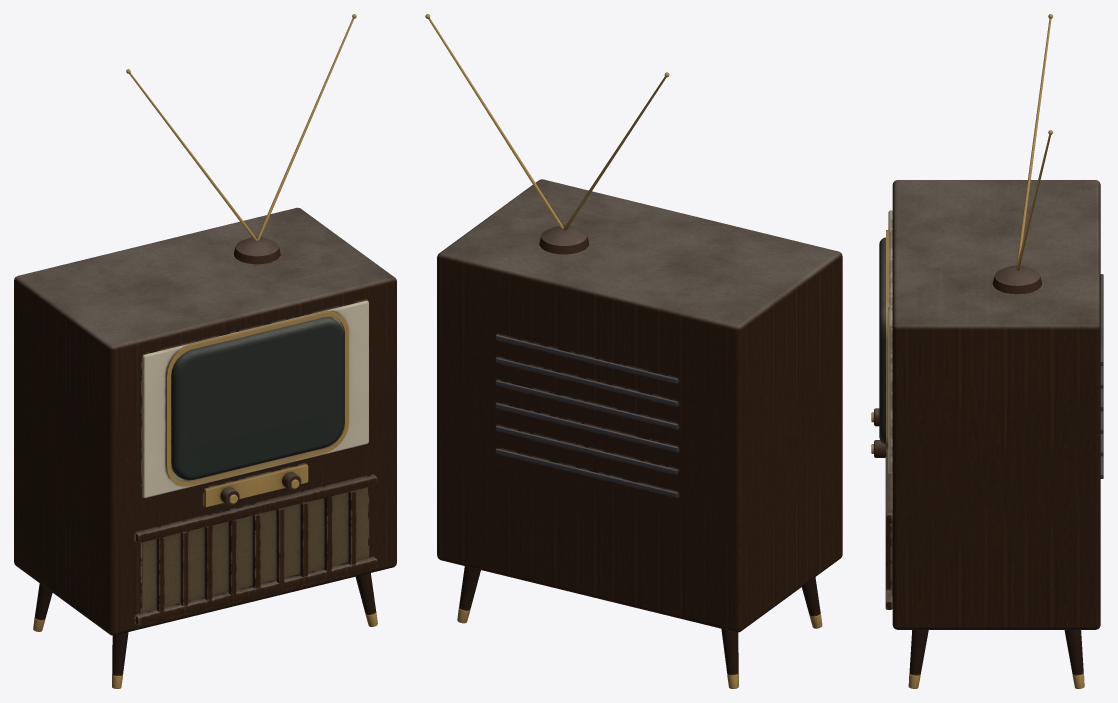
The model's file is tv_console.glb.
The picture shows the model from 3 angles, left to right: view 1: azimuth 30°, elevation 25°; view 2: azimuth 150°, elevation 25°; view 3: azimuth 270°, elevation 25°; orthographic projection. The views are drawn at different scales.
Parts seen in each view (by area): view 1: tv_console; view 2: tv_console; view 3: tv_console.
Boxes of the visible parts, bbox=[...] form: tv_console: bbox=[14, 14, 396, 688]; tv_console: bbox=[425, 14, 842, 688]; tv_console: bbox=[871, 14, 1103, 688].
Size of the model in its own units: 0.9359 by 1.54 by 0.5579.
1 material, 1 textured.
